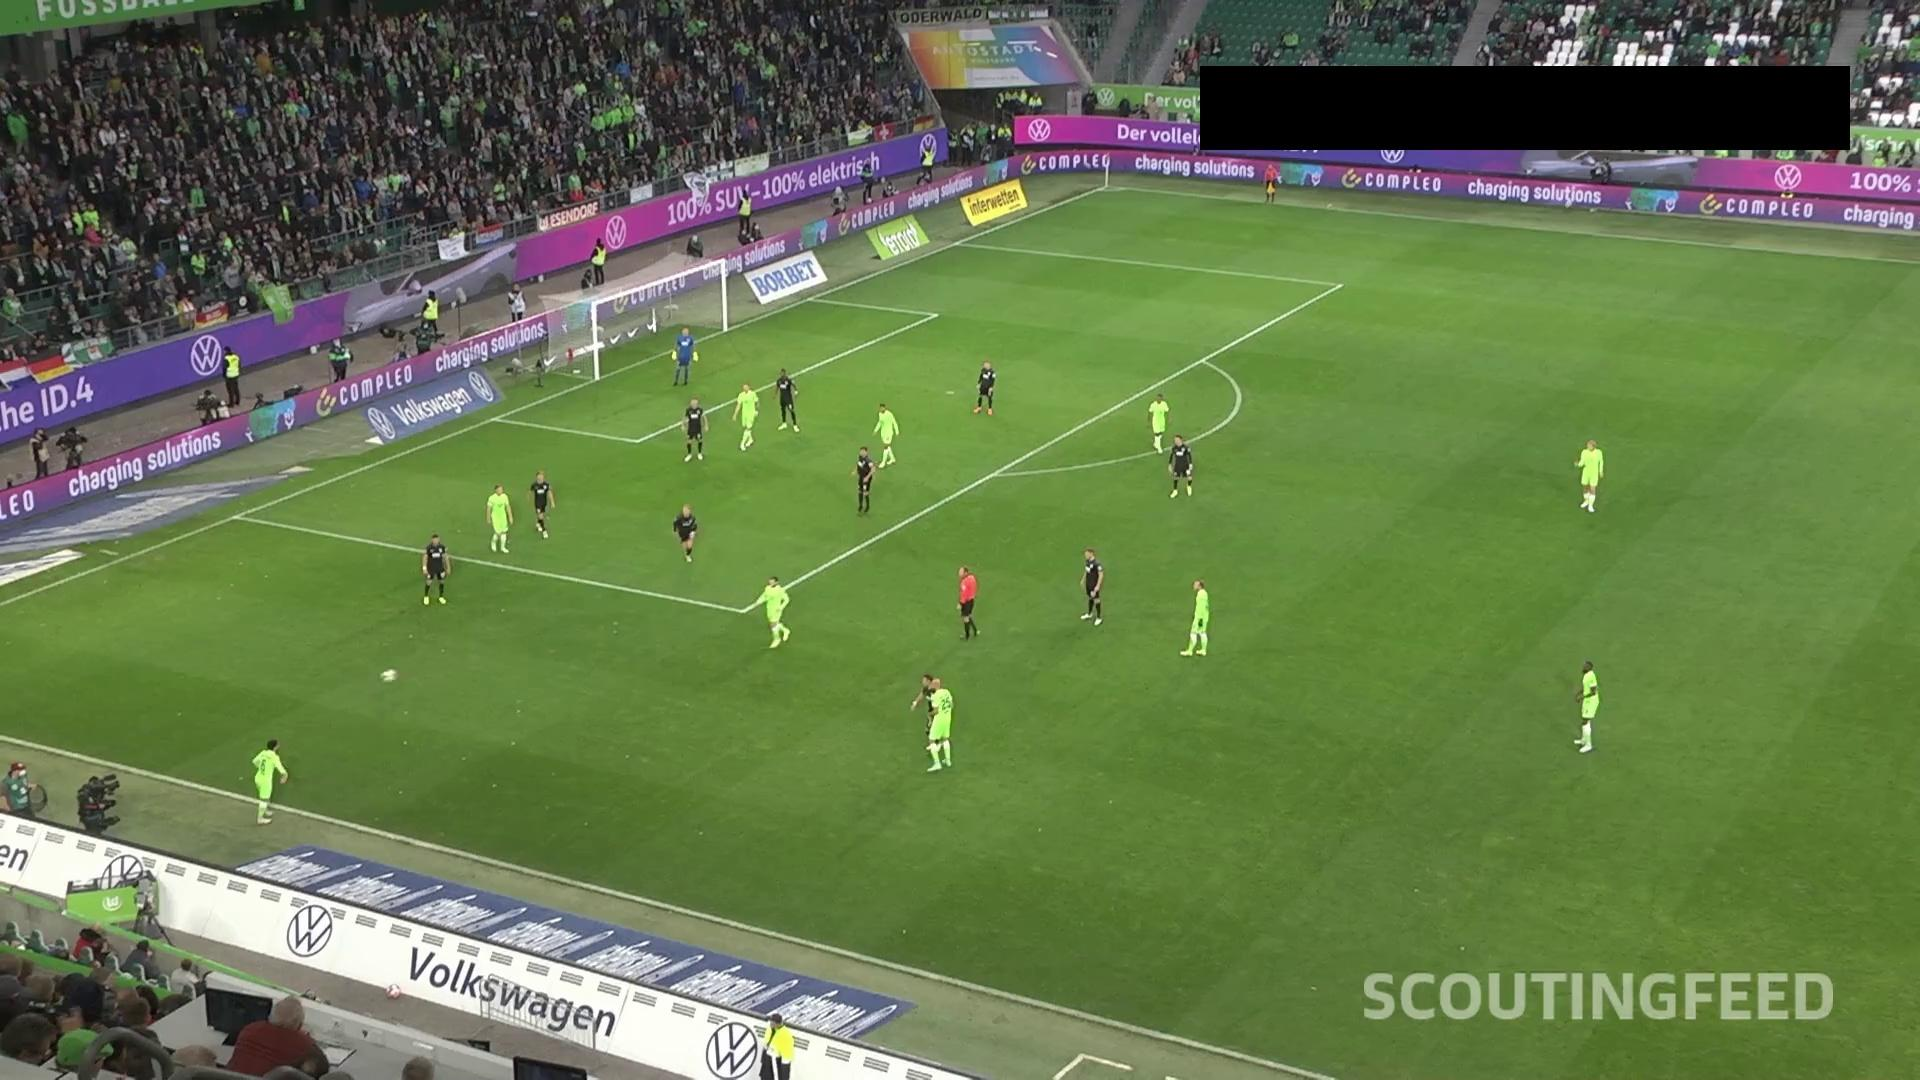Location-of-ball: (378, 663, 406, 684)
